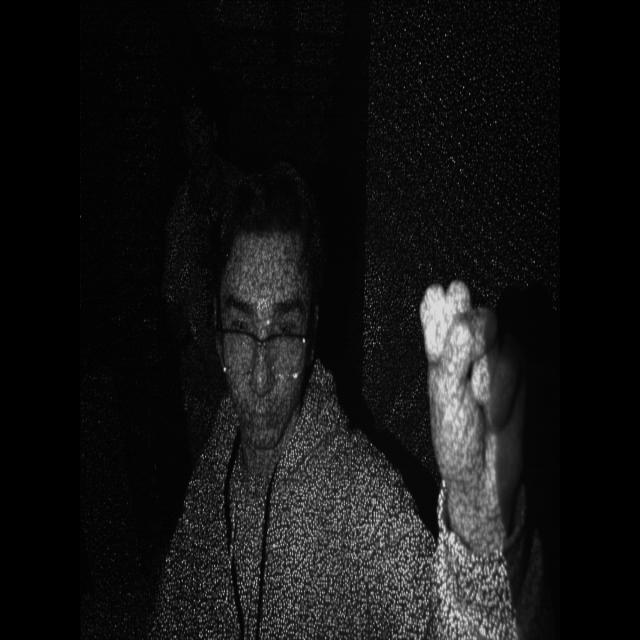S: (409, 245, 542, 551)
